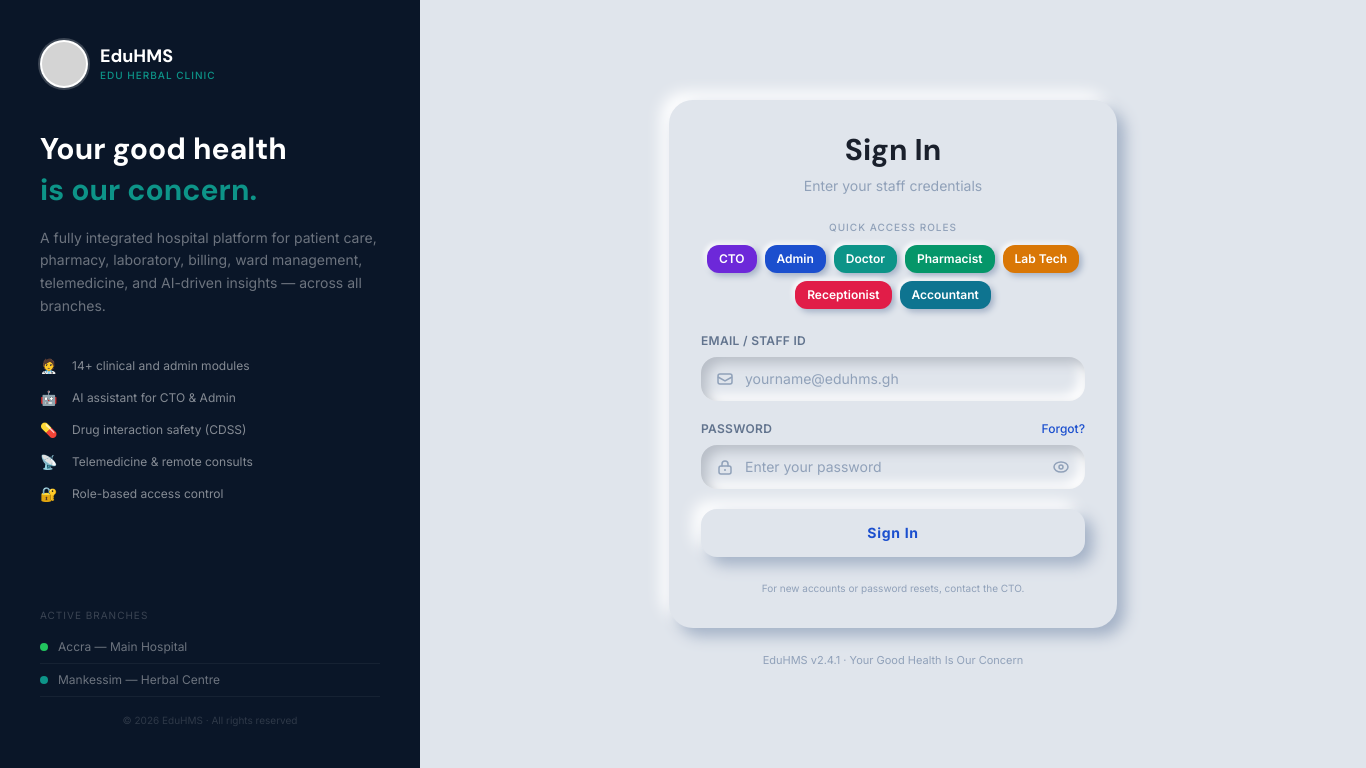
Test: Login Page User Journey & Adversarial UI Validation › ADVERSARIAL: Displays error banner when backend returns invalid credentials
Type "unknown@eduhms.gh" into the field with placeholder "yourname@eduhms.gh".
click(907, 379); type("unknown@eduhms.gh")  # box [745,369,1069,389]
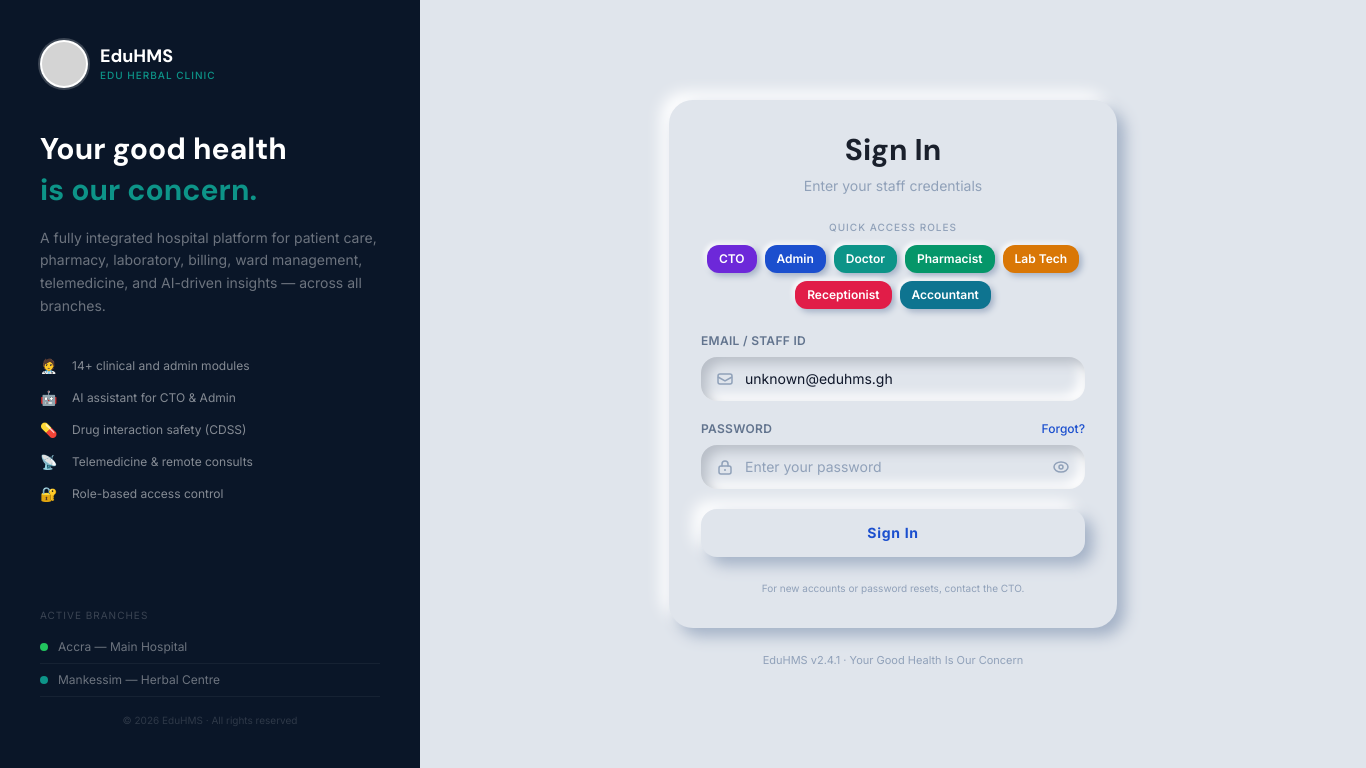
Type "WrongPass!" into the password field with placeholder "Enter your password".
click(893, 467); type("WrongPass!")  # box [745,457,1041,477]
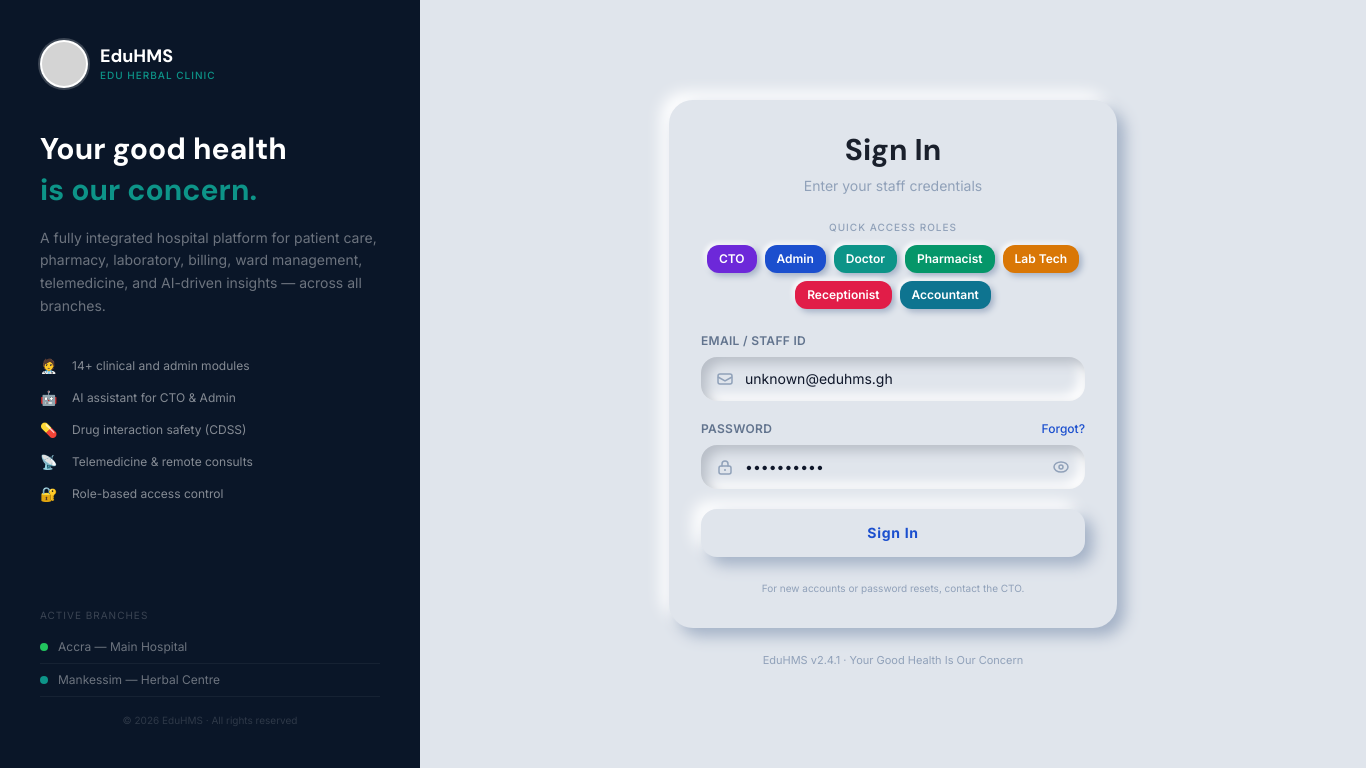
Click the button "Sign In".
click(893, 533)  # box [701,509,1085,557]
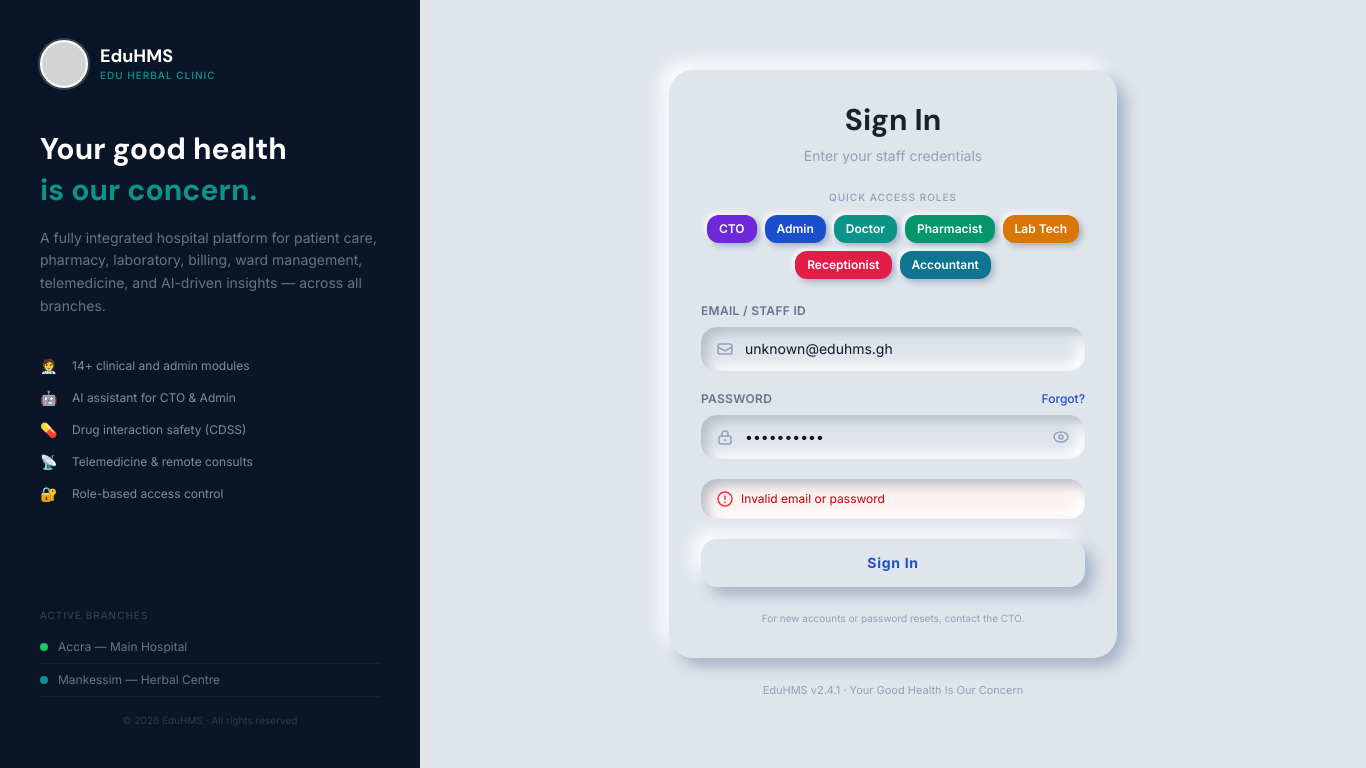
Now the text "Invalid email or password" is shown, box [741,491,885,507]
